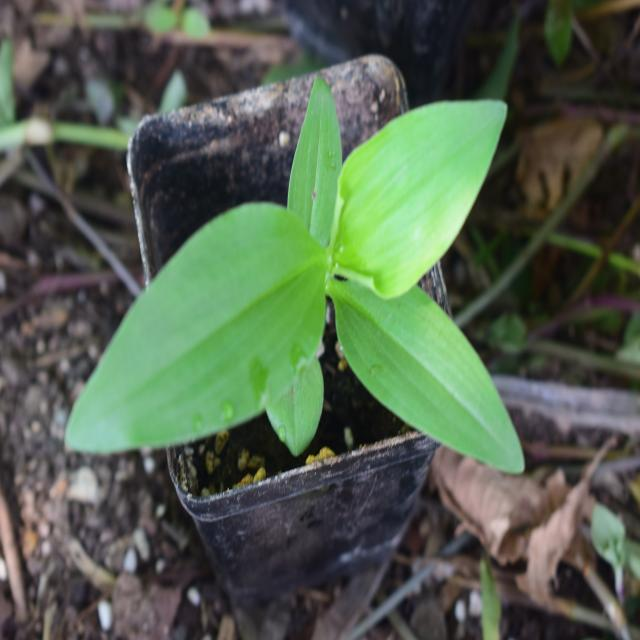Common Dayflower: (82, 92, 525, 482)
